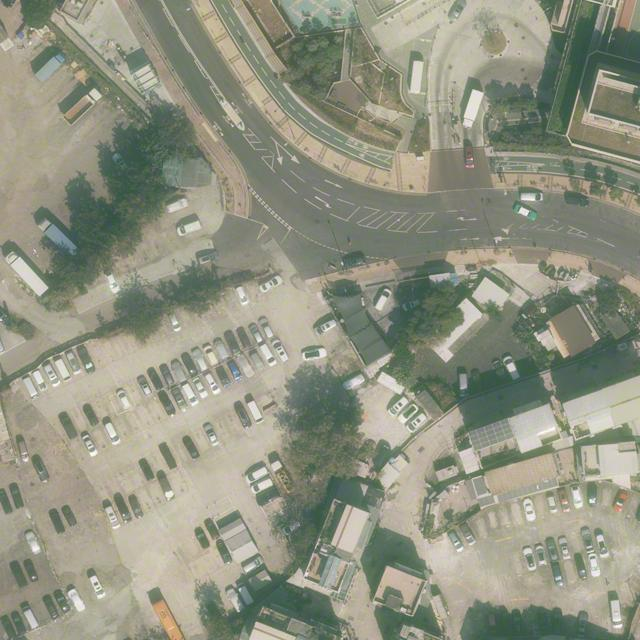panel: (466, 419, 515, 452)
